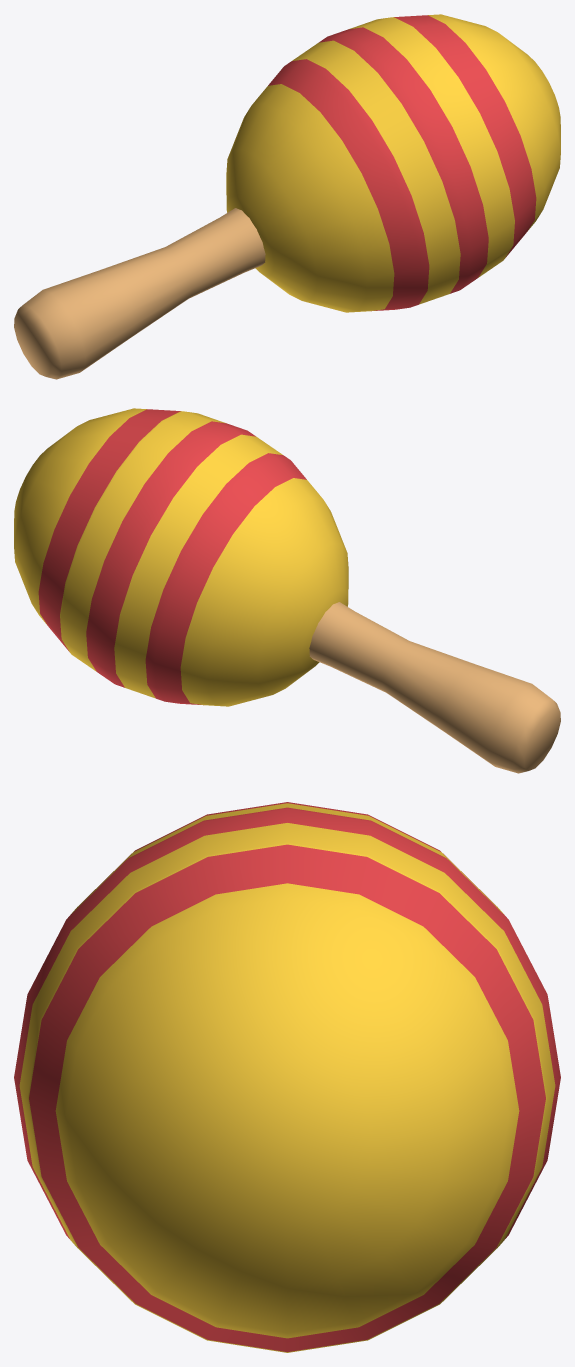
Rendered from brinquedo_chocalho.glb.
3 views of the same model, one above another, from view 1: azimuth 30°, elevation 25°; view 2: azimuth 150°, elevation 25°; view 3: azimuth 270°, elevation 25° (orthographic). The views are drawn at different scales.
Visible parts, largest first — view 1: brinquedo_chocalho; view 2: brinquedo_chocalho; view 3: brinquedo_chocalho.
Part boxes in pixels (x1=…): brinquedo_chocalho: x1=14, y1=14, x2=560, y2=379; brinquedo_chocalho: x1=14, y1=408, x2=560, y2=773; brinquedo_chocalho: x1=14, y1=802, x2=560, y2=1352.
Size of the model in its own units: 0.2099 by 0.1016 by 0.1.
1 material, 1 textured.
